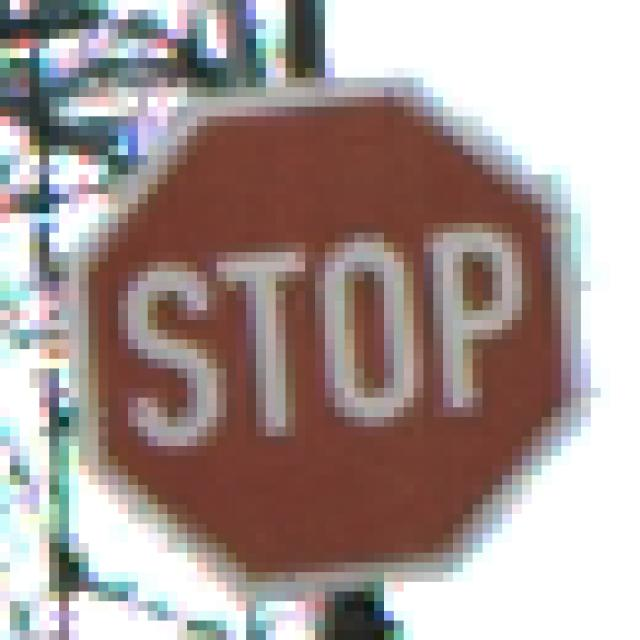STOP: (60, 59, 592, 583)
